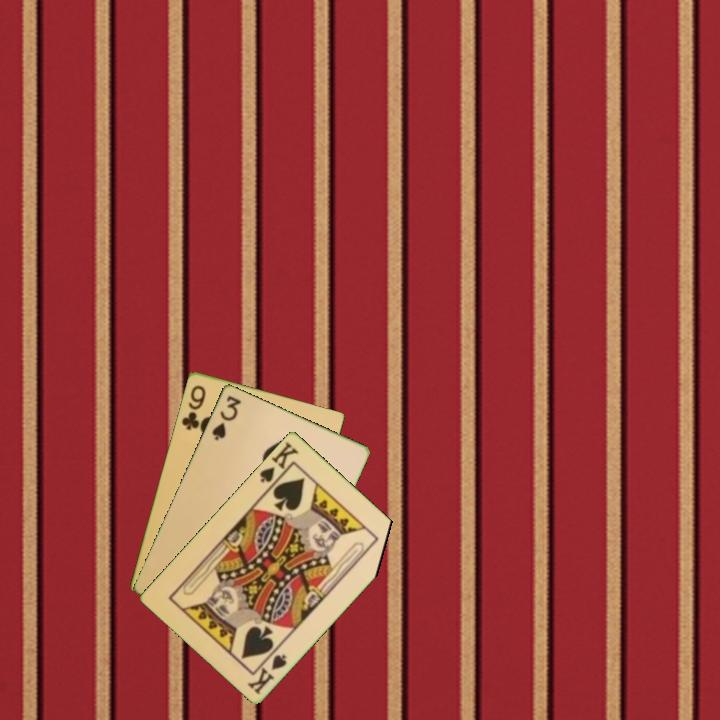3s: (208, 392, 244, 443)
9c: (178, 381, 209, 433)
Ks: (244, 650, 290, 697), (256, 438, 301, 485)
